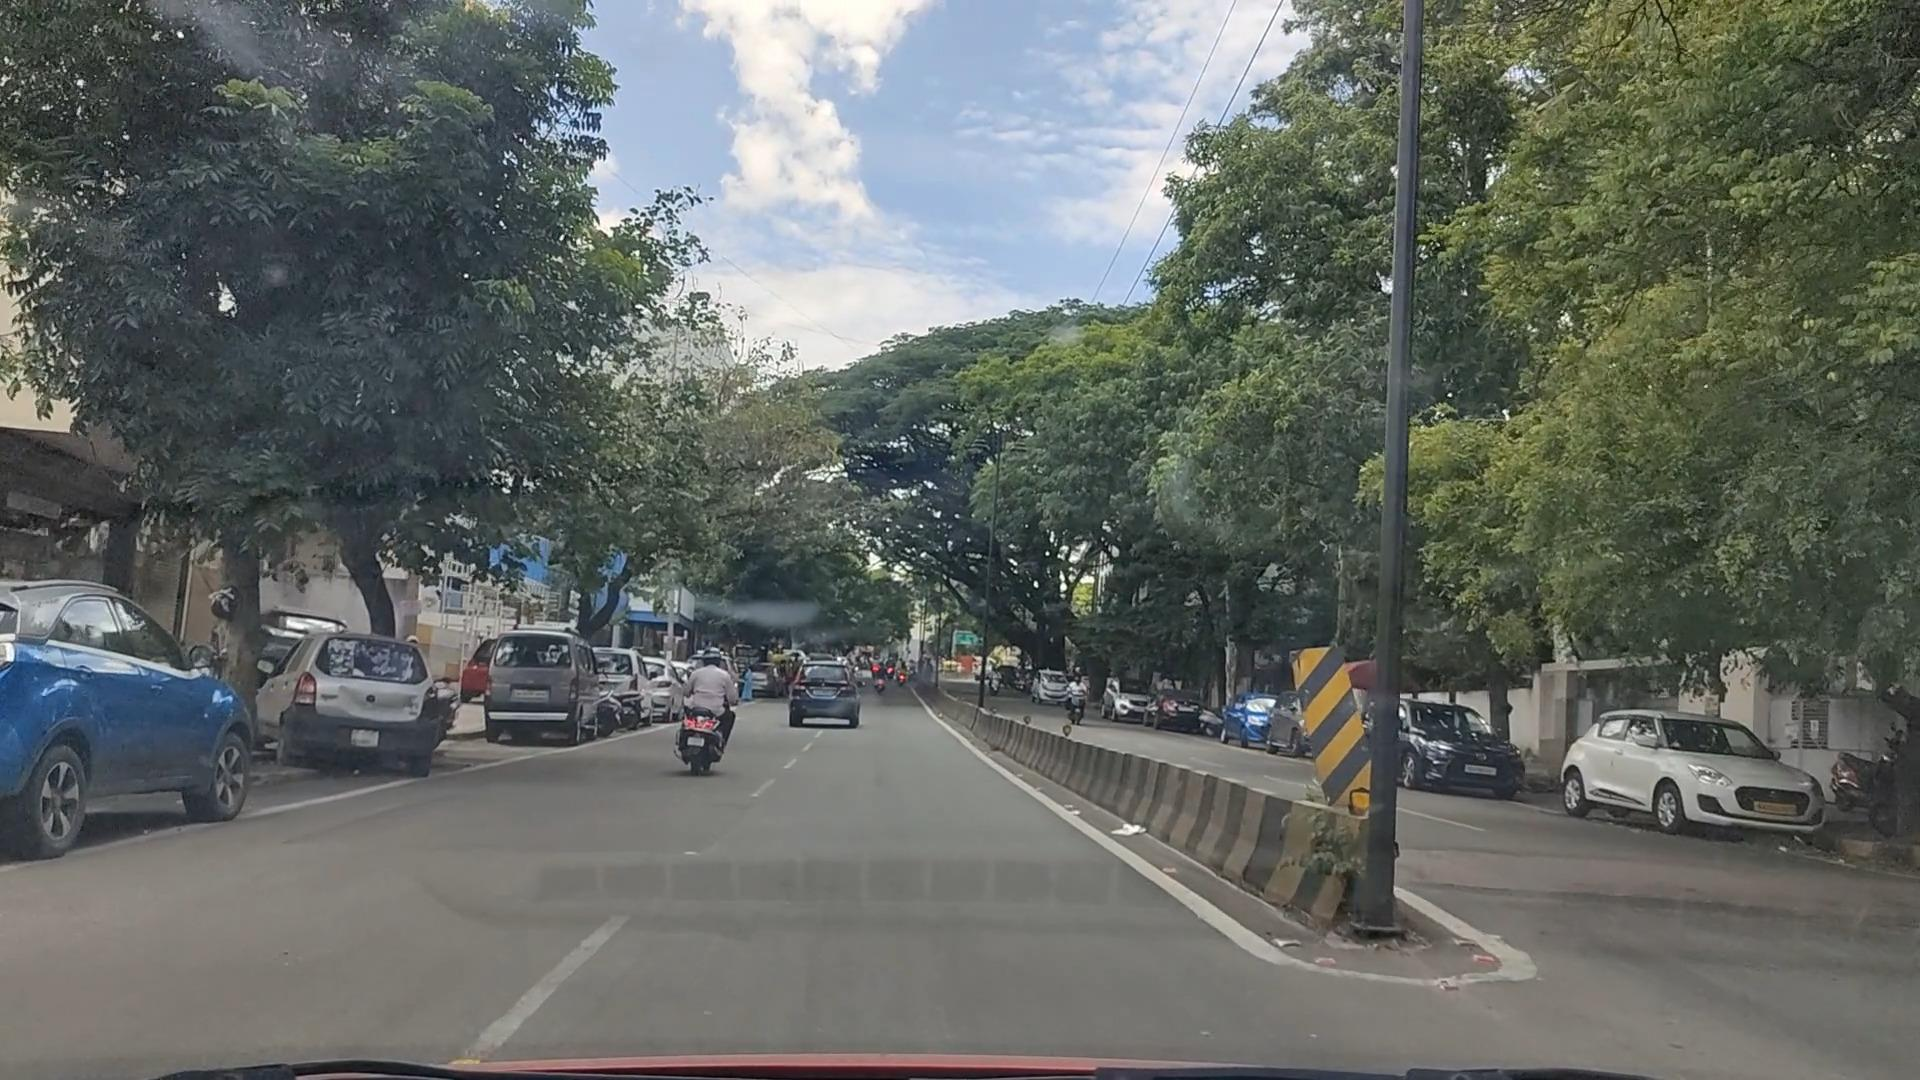LMV: (8, 588, 283, 848), (263, 627, 449, 798), (676, 640, 751, 768)
